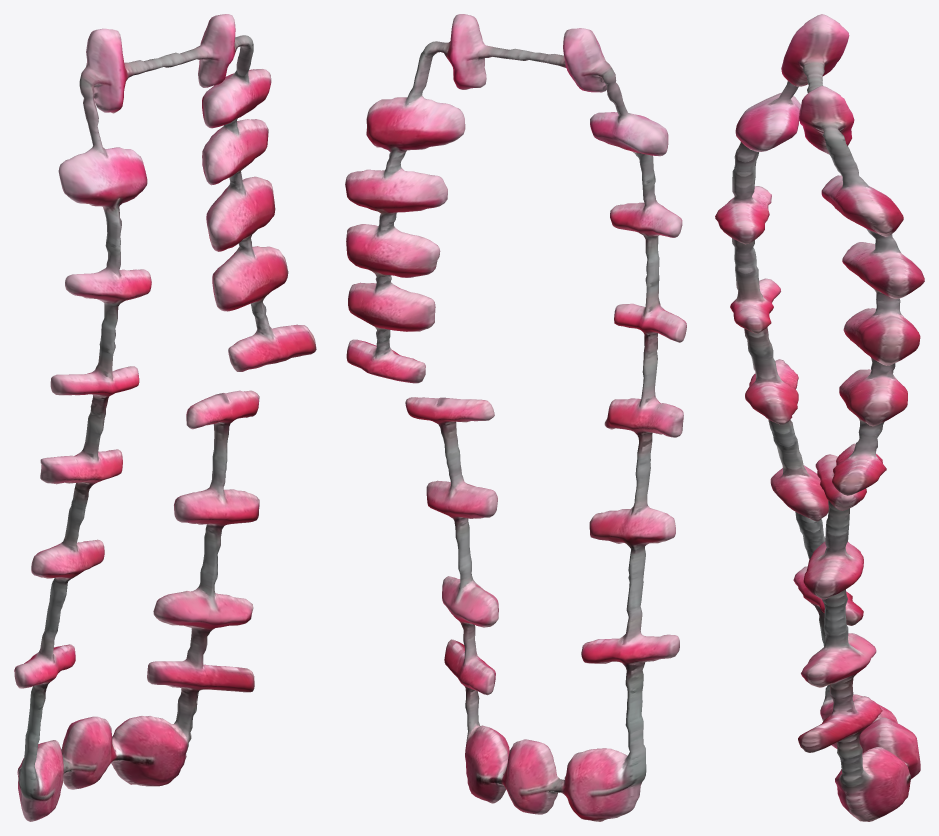
Rendered from hy3d-mov-013.glb.
3 views of the same model, side by side, from view 1: azimuth 30°, elevation 25°; view 2: azimuth 150°, elevation 25°; view 3: azimuth 270°, elevation 25° (orthographic). The views are drawn at different scales.
Visible parts, largest first — view 1: world; view 2: world; view 3: world.
Boxes of the visible parts, box(x1,y1,x2,y2) form: world: box(14, 14, 316, 821); world: box(345, 14, 686, 821); world: box(715, 14, 924, 821).
Size of the model in its own units: 0.9535 by 2.27 by 0.5612.
1 material, 1 textured.
